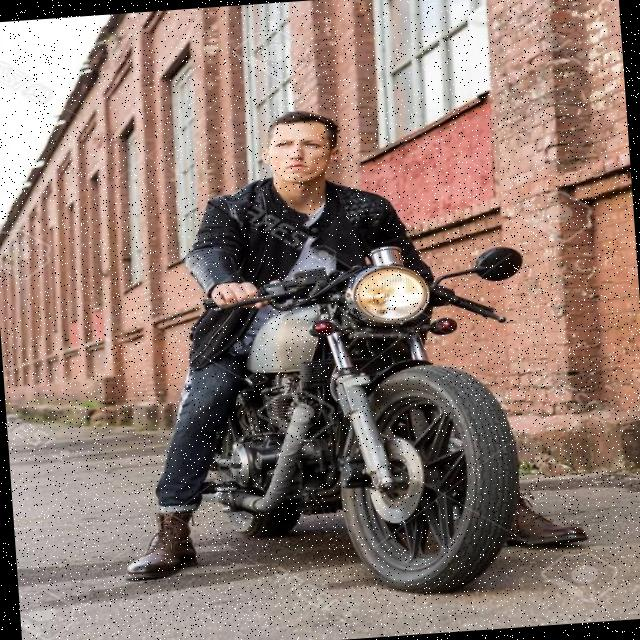No helmet: (254, 103, 361, 216)
